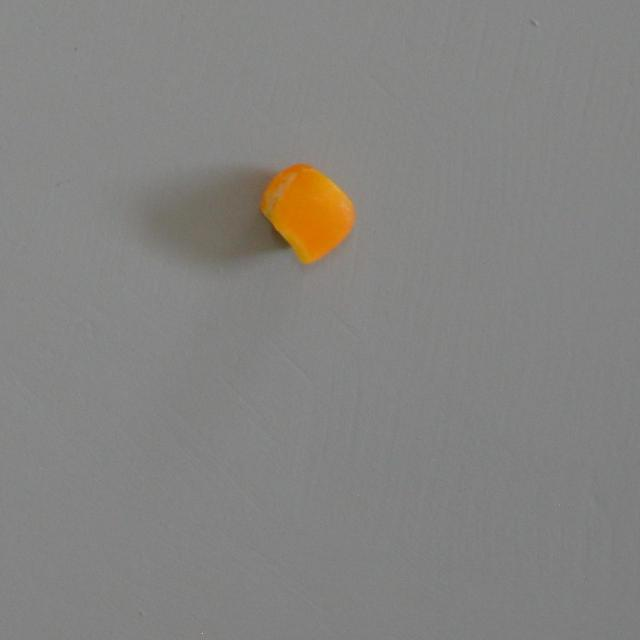no_canjicado: (252, 150, 366, 270)
